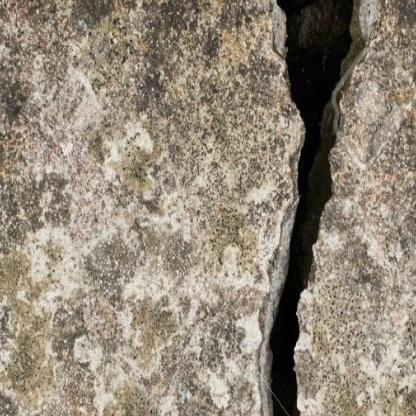Cracks: (263, 0, 371, 416)
